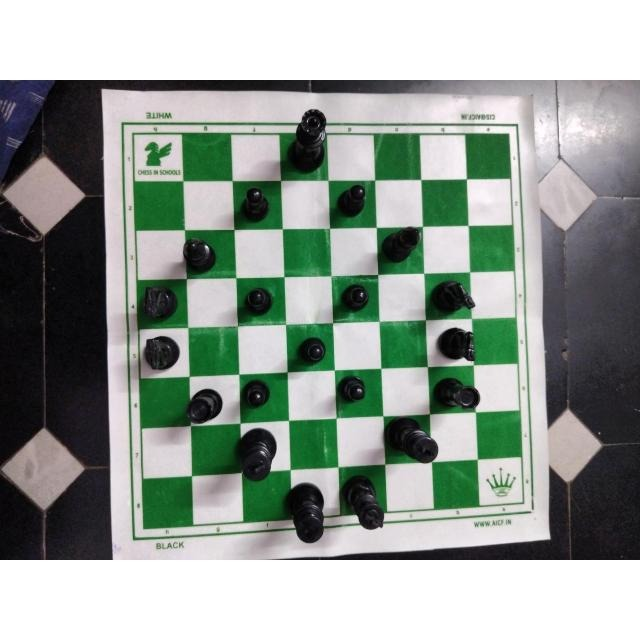black-bishop: (378, 224, 426, 265), (178, 232, 219, 274)
black-king: (383, 414, 442, 470), (343, 472, 391, 536), (281, 482, 330, 544), (236, 424, 280, 484)
black-knight: (426, 277, 478, 319), (137, 282, 186, 326), (432, 324, 484, 364), (140, 332, 181, 372)
black-pawn: (331, 182, 371, 222), (290, 332, 334, 368), (238, 185, 276, 225), (339, 275, 371, 319), (241, 379, 279, 411), (243, 285, 276, 319), (338, 372, 370, 406)
black-queen: (282, 106, 331, 175)
black-rook: (432, 372, 484, 414), (181, 385, 227, 427)
